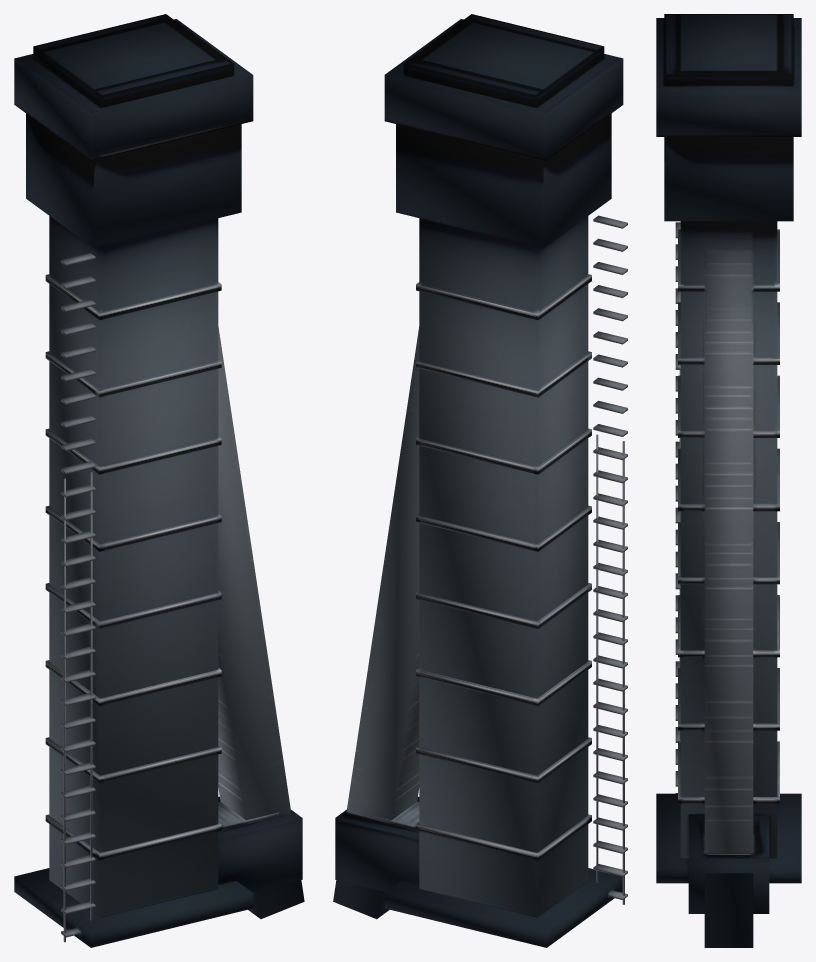
Rendered from grain-elevator-authored-body-tripo-original.glb.
The picture shows the model from 3 angles, left to right: view 1: azimuth 30°, elevation 25°; view 2: azimuth 150°, elevation 25°; view 3: azimuth 270°, elevation 25°; orthographic projection. The views are drawn at different scales.
Visible parts, largest first — view 1: Authored_surface_287; view 2: Authored_surface_287; view 3: Authored_surface_287.
Part boxes in pixels (<box>): Authored_surface_287: <box>14,14,304,947</box>; Authored_surface_287: <box>333,14,627,947</box>; Authored_surface_287: <box>656,14,801,947</box>.
Bounding box in the file's own units: 0.3011 × 1 × 0.1574.
Materials: 1 (1 with a texture image).
